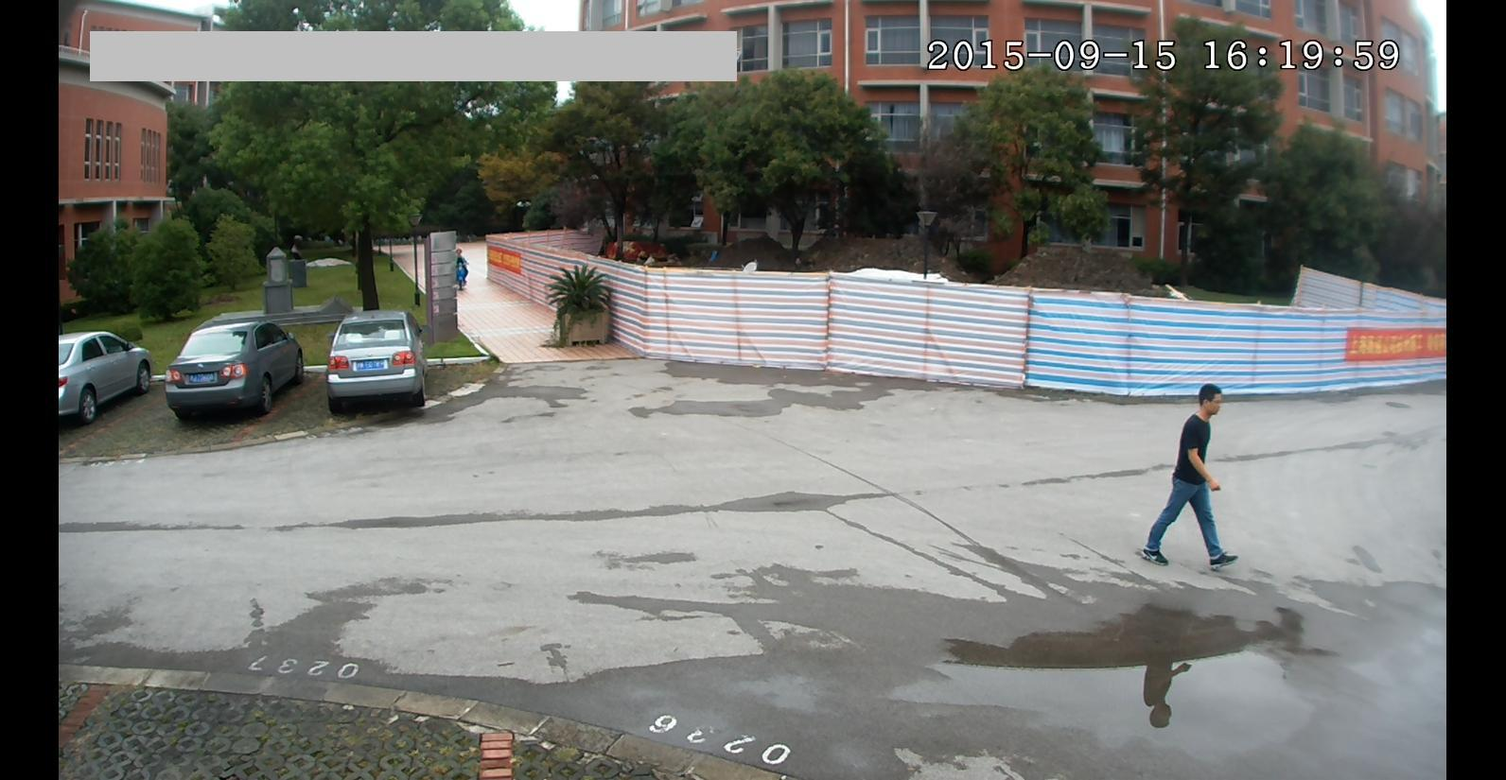person: (1140, 380, 1241, 569)
